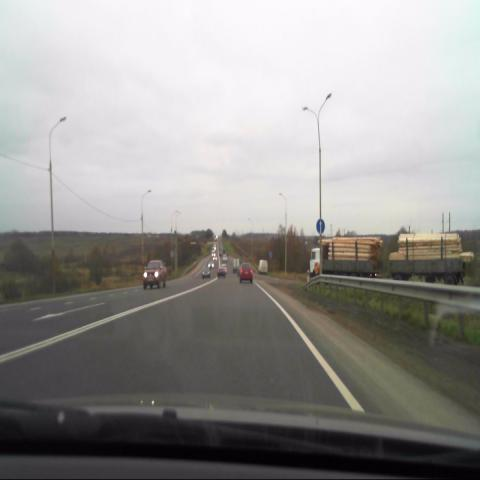4_1_1: (316, 218, 326, 235)
